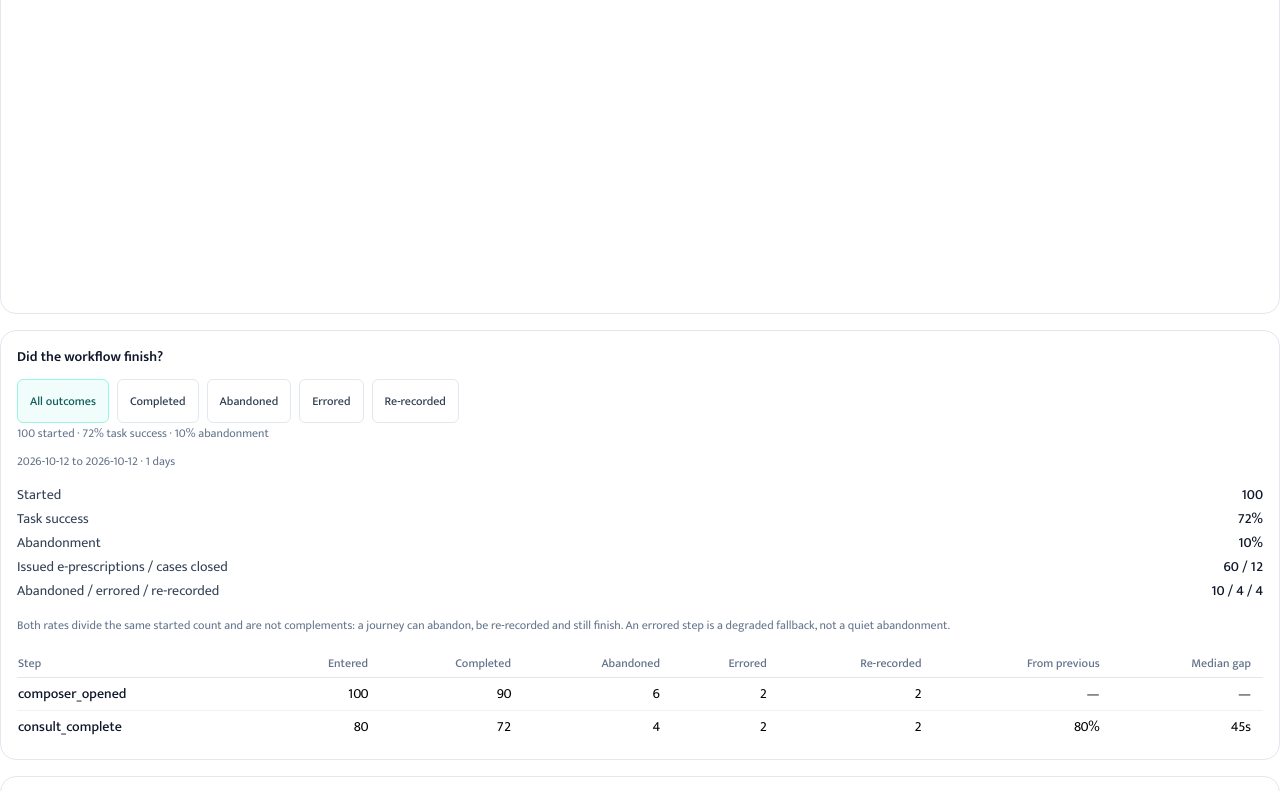
Test: ObservabilityProductPage over the real wire › sends the outcome filter as a query and re-reads only the funnel
(page scrolled)
Expected: the text "100 started · 72% task success · 10% abandonment" is shown, [17, 423, 269, 443]
Click the button with test id "product-funnel-filter-abandoned". click: (249, 401)
box: [207, 379, 291, 423]
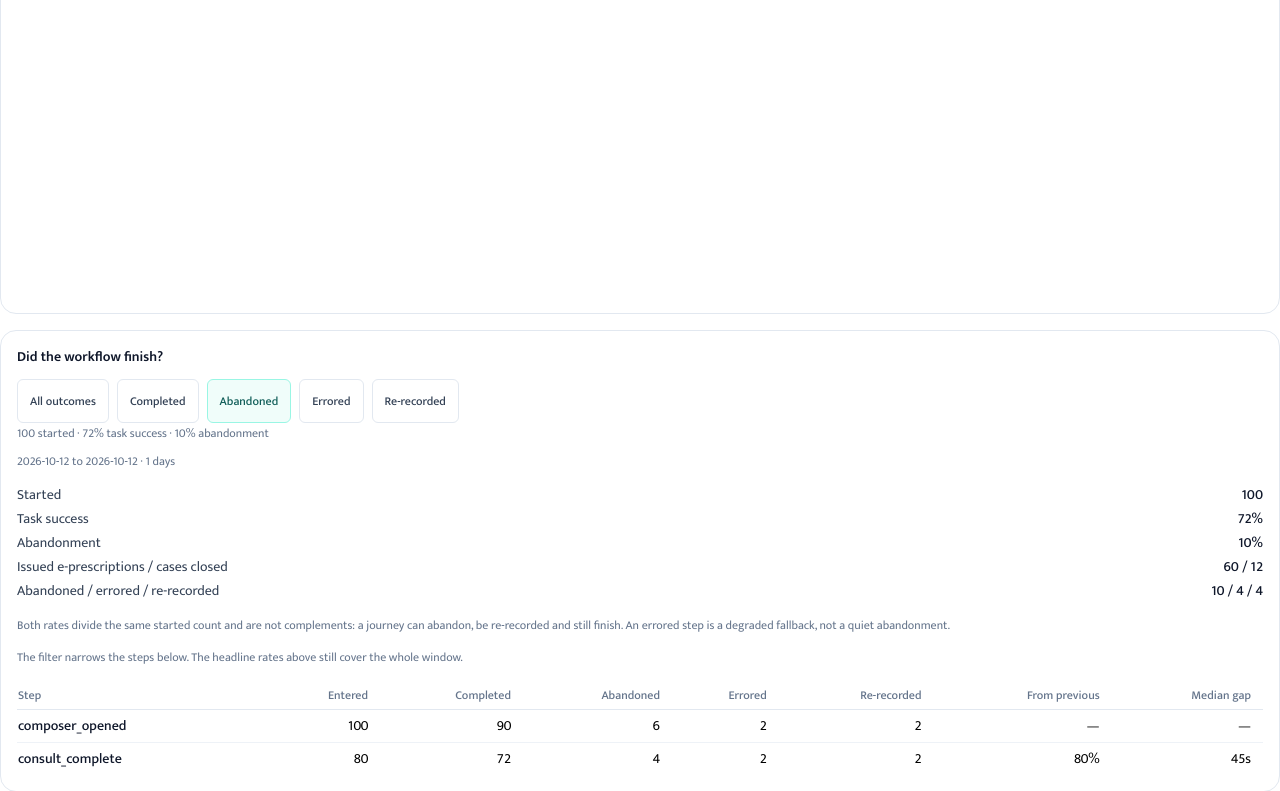
Now the text with test id "product-funnel-filter-note" is shown, box [17, 647, 463, 667]
